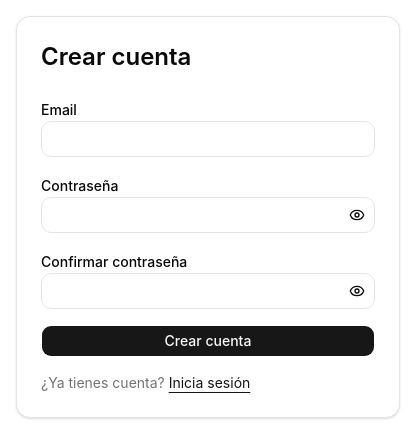
Test: auth pages › resends the signup code and gives a neutral response after a rate-limit error
Type "person@example.com" into the field labelled "Email" at (208, 139), box x1=41 y1=121 x2=375 y2=157
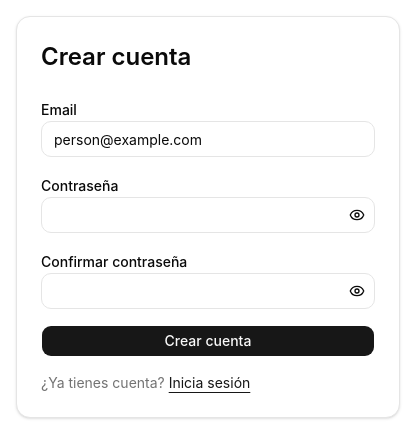
Type "a secure phrase!" into the password field labelled "Contraseña" at (208, 215), box x1=41 y1=197 x2=375 y2=233
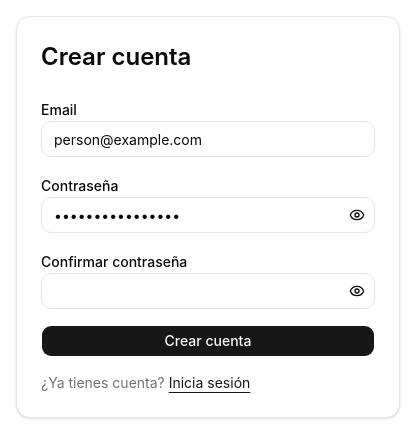
Type "a secure phrase!" into the password field labelled "Confirmar contraseña" at (208, 291), box x1=41 y1=273 x2=375 y2=309
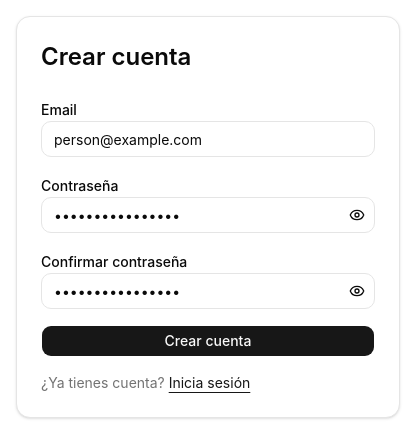
Click the button "Crear cuenta" at (208, 341), box x1=41 y1=325 x2=375 y2=357
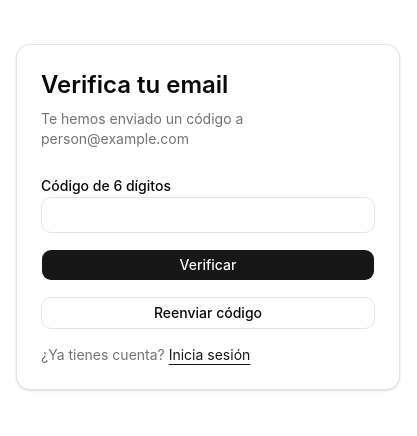
Expected: the heading "Verifica tu email" is shown, x1=41 y1=70 x2=228 y2=99
Click the button "Reenviar código" at (208, 313), box x1=41 y1=297 x2=375 y2=329
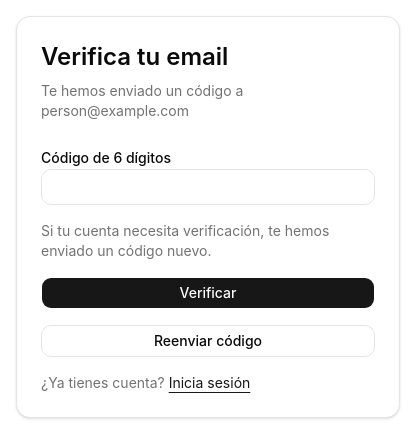
Expected: the text "Si tu cuenta necesita verificación, te hemos enviado un código nuevo." is shown, x1=41 y1=221 x2=375 y2=261
